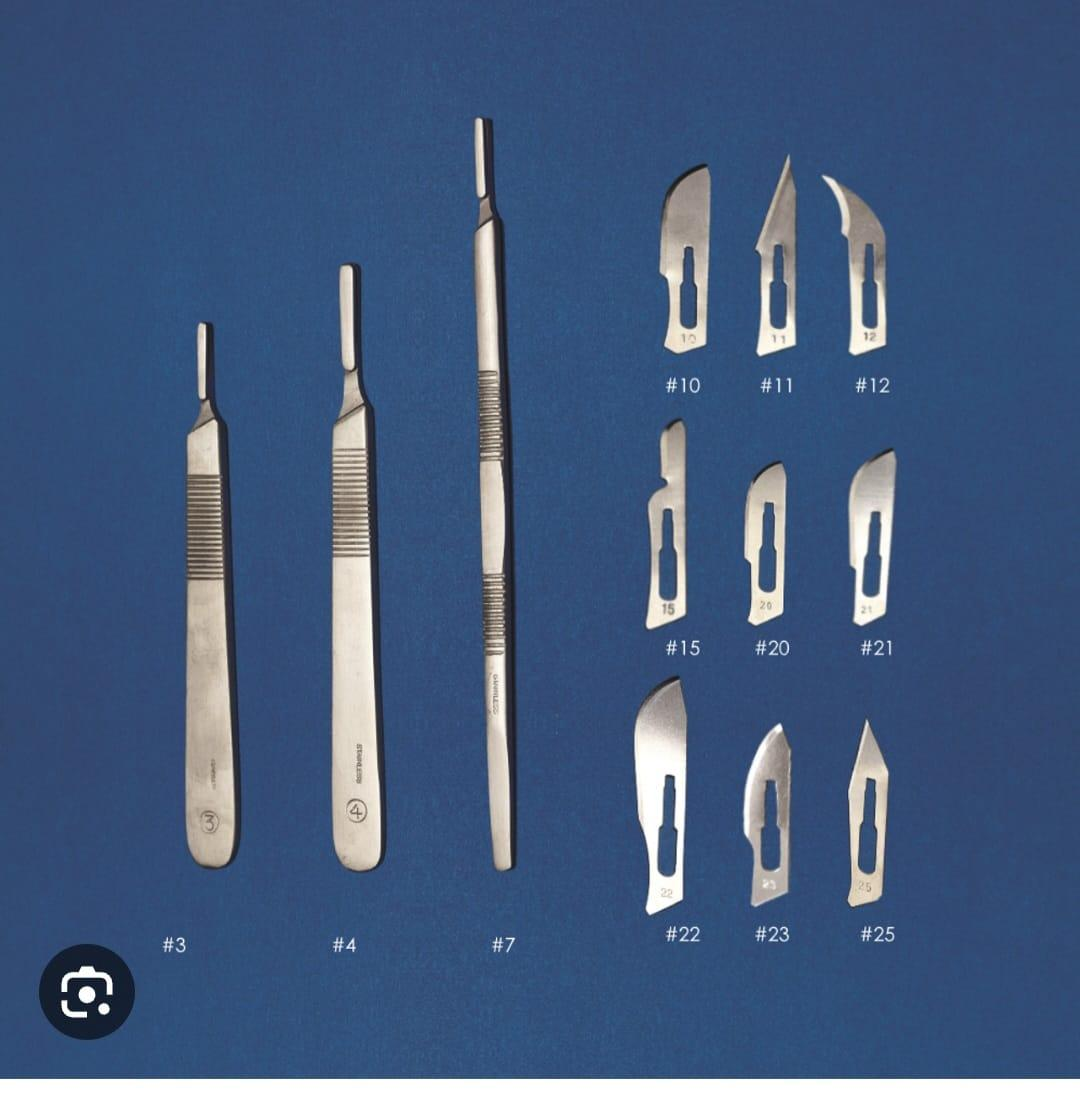Knife Blade: (610, 663, 715, 922), (628, 150, 727, 367), (740, 705, 822, 927), (727, 448, 817, 648), (832, 168, 922, 355), (837, 442, 918, 642), (747, 163, 818, 377), (845, 712, 920, 907)
Knife Handle: (323, 253, 423, 900), (167, 290, 260, 893)
